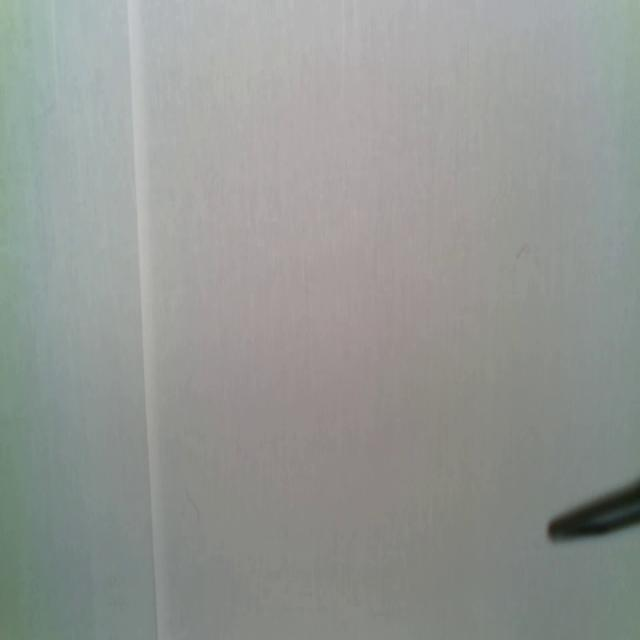crease: (128, 0, 160, 640)
